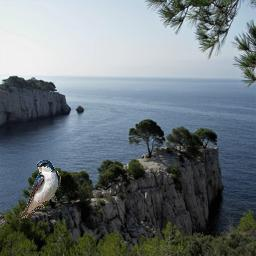Swallow: (19, 159, 61, 220)
